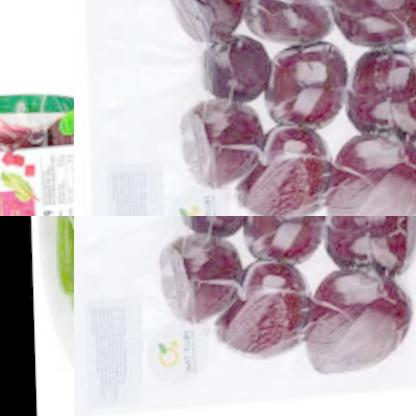beet: (302, 262, 415, 382), (206, 253, 315, 368), (160, 92, 266, 200), (139, 227, 245, 335), (227, 117, 335, 216), (326, 40, 416, 152), (255, 34, 344, 139), (323, 126, 416, 216), (305, 216, 416, 287), (235, 0, 333, 65), (192, 37, 271, 108), (234, 216, 323, 274), (317, 0, 416, 52), (155, 0, 246, 45), (170, 216, 249, 242)
fasol: (31, 216, 74, 416)
